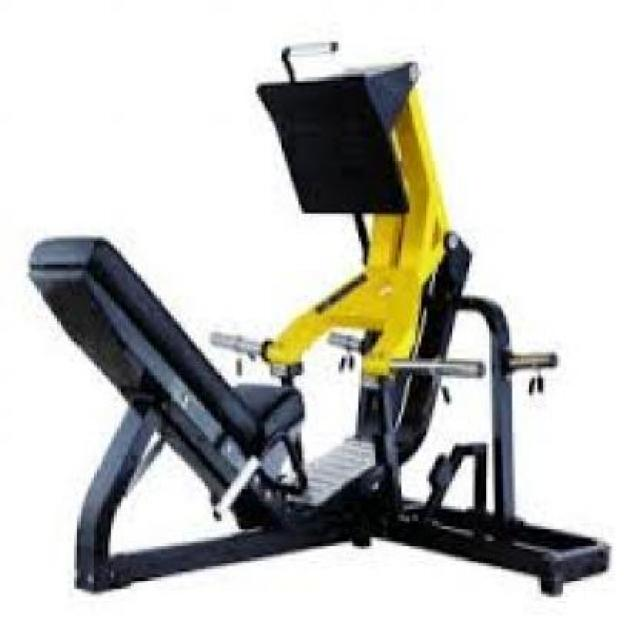leg press: (26, 36, 629, 610)
